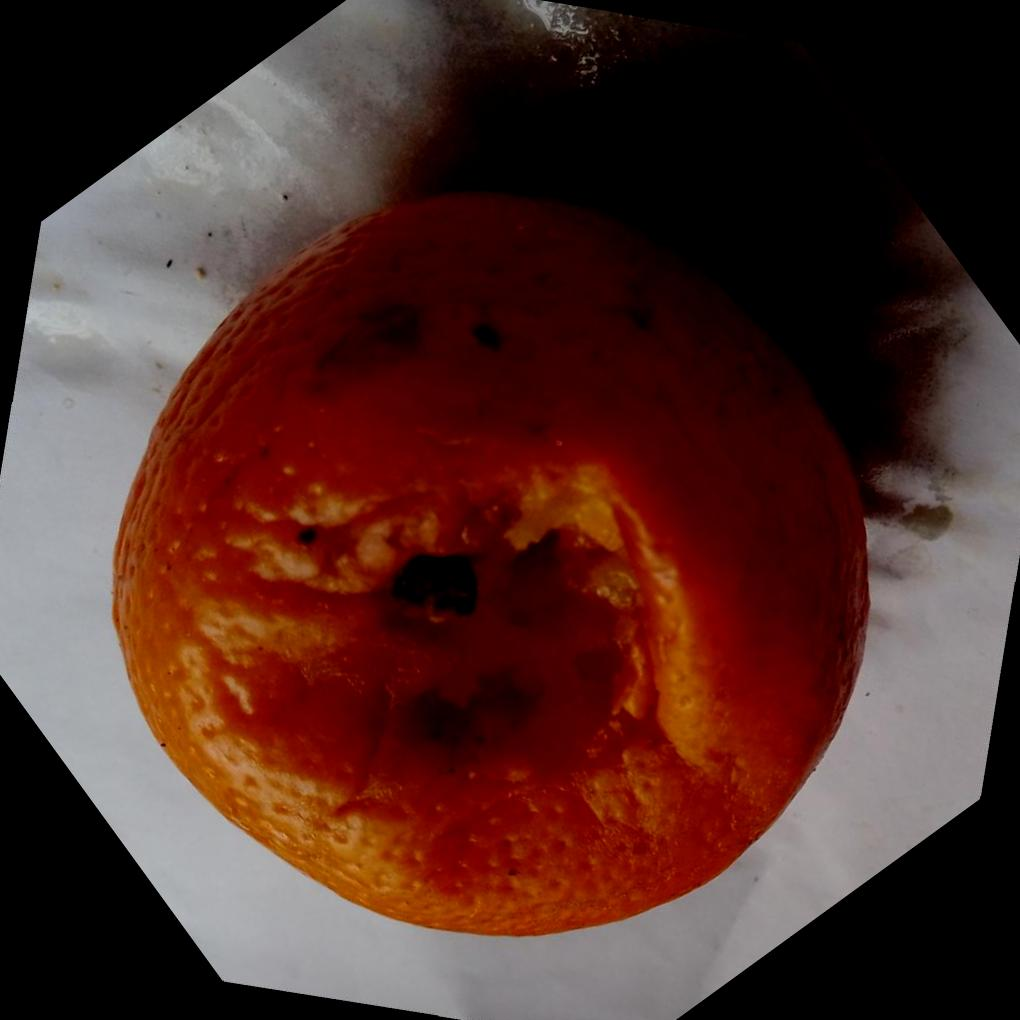FreshOrange: (107, 183, 872, 937)
